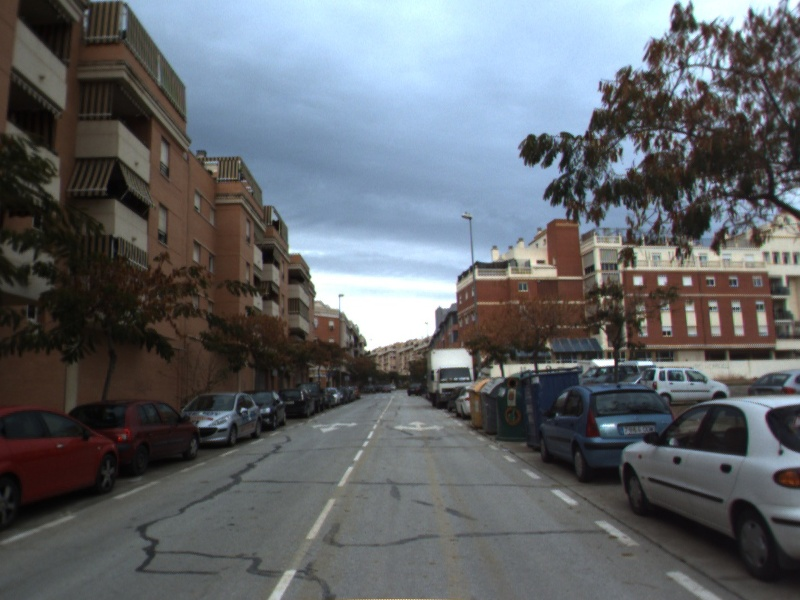STRAIGHT_LEFT_RIGHT: (392, 419, 447, 433)
